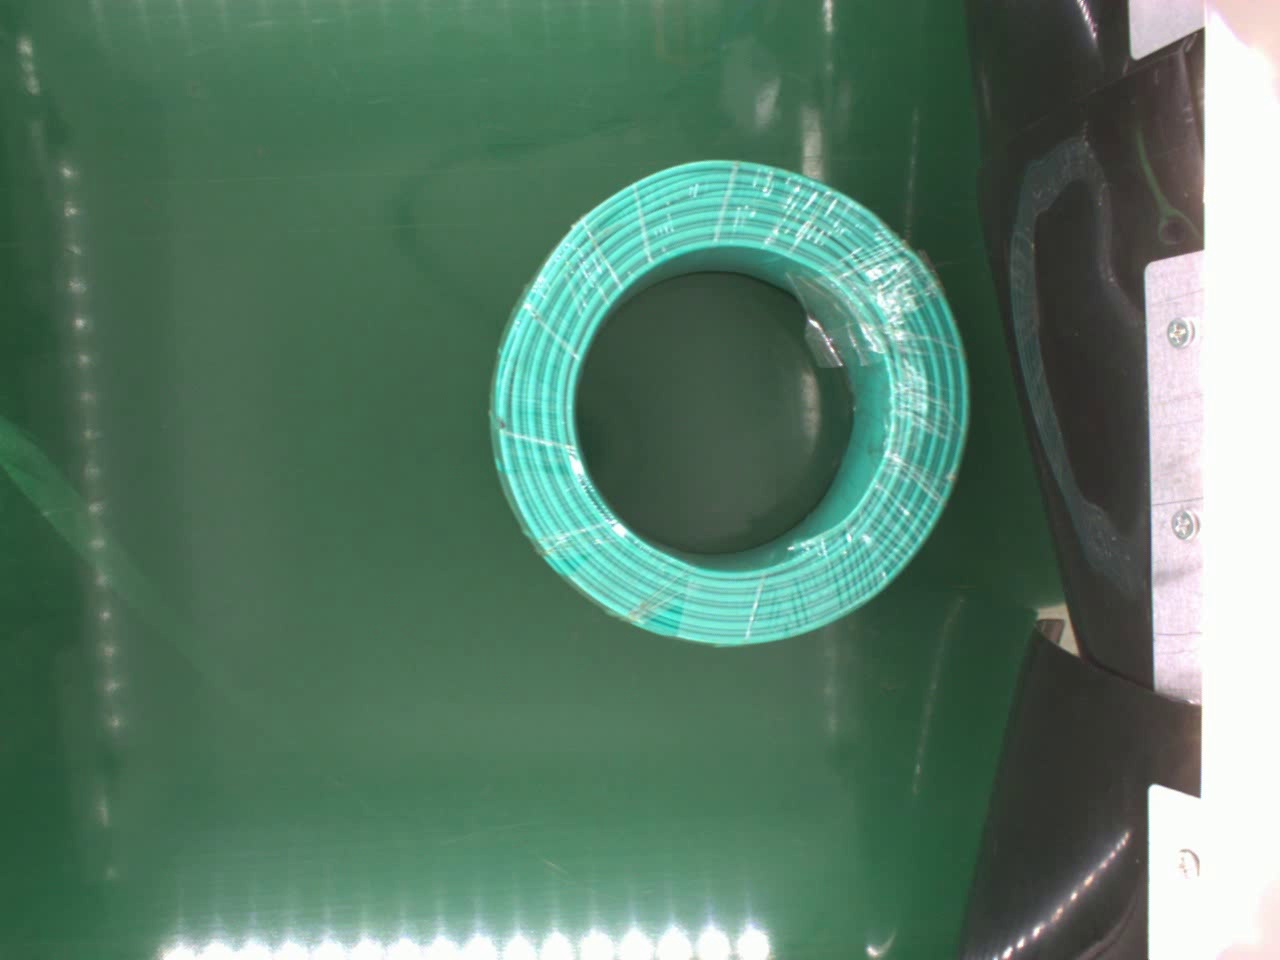green: (484, 155, 971, 650)
